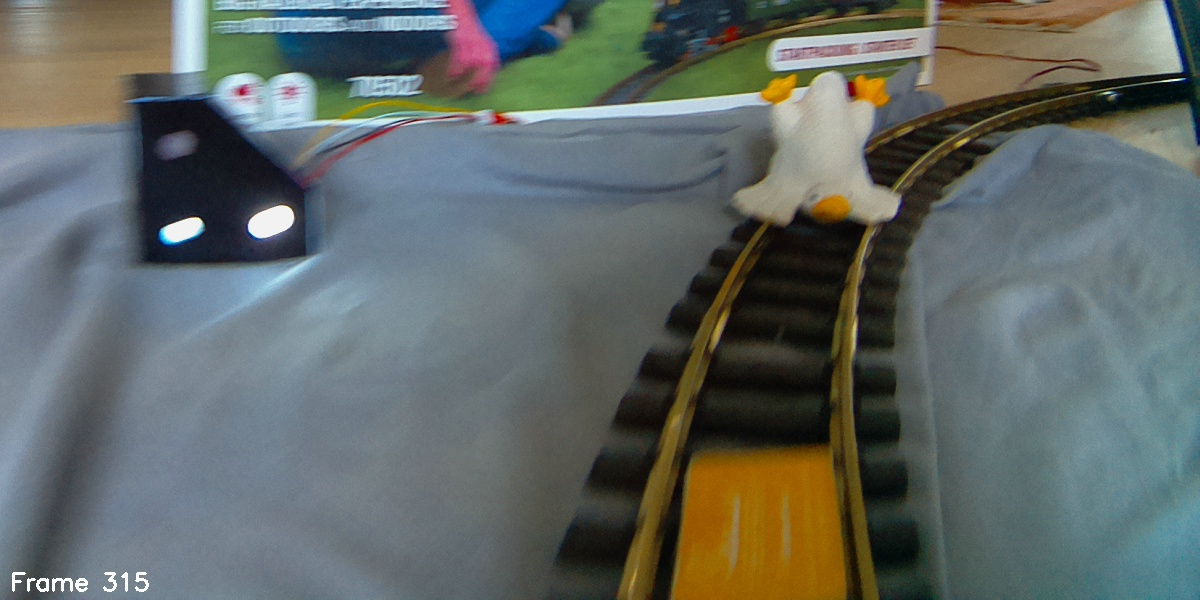Halt: (121, 73, 311, 262)
